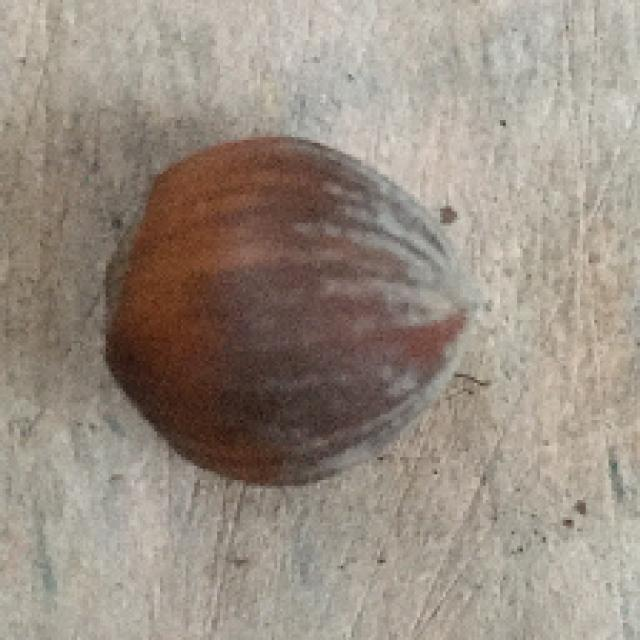damagedHazelnut: (100, 127, 487, 488)
